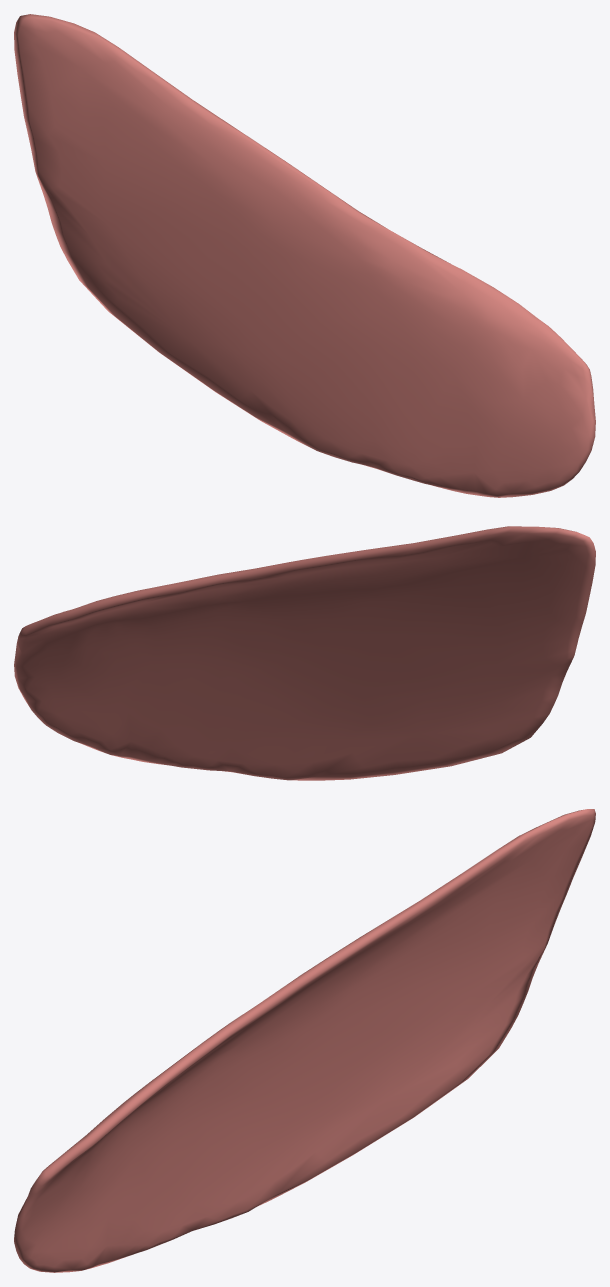
The picture shows the model from 3 angles, top to bottom: view 1: azimuth 30°, elevation 25°; view 2: azimuth 210°, elevation 25°; view 3: azimuth 270°, elevation 25°; orthographic projection.
Visible parts, largest first — view 1: ZA_613bd0f9a6507f1c; view 2: ZA_613bd0f9a6507f1c; view 3: ZA_613bd0f9a6507f1c.
Part boxes in pixels (x1=…): ZA_613bd0f9a6507f1c: x1=14, y1=14, x2=595, y2=497; ZA_613bd0f9a6507f1c: x1=14, y1=526, x2=595, y2=780; ZA_613bd0f9a6507f1c: x1=14, y1=809, x2=595, y2=1272.
Size of the model in its own units: 0.0143 by 0.0159 by 0.0234.
